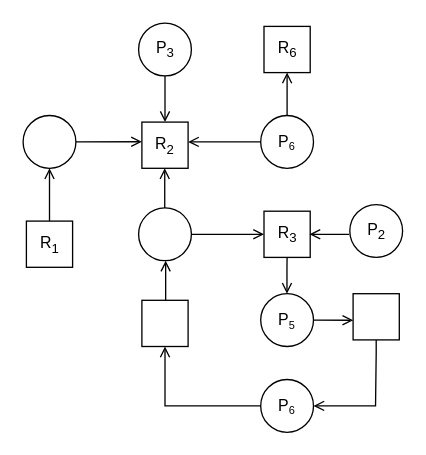
Some shapes in this 426 by 455 pixel diagram are drawn without their labels. Here are the shapes that lost their labels. From the top down, the centre of each, then its label:
point (49, 141): P 1
point (164, 234): P 4
point (164, 322): R 4
point (375, 316): R 5
